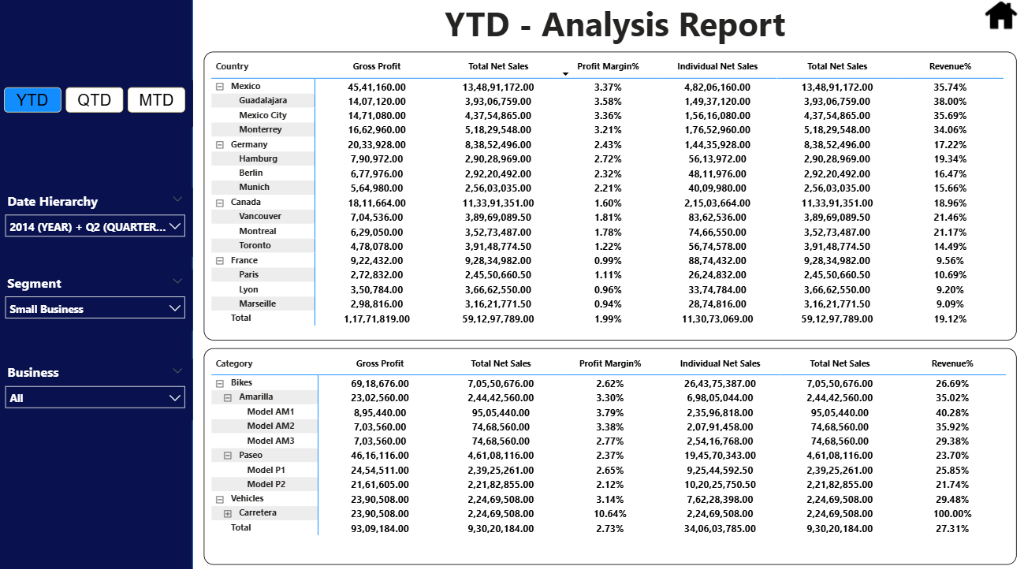

The dashboard page shown, as its layout file describes it:
{"tool":"powerbi","page":{"name":"Product/Location Analysis","canvas":[1280,720],"ordinal":2},"visuals":[{"type":"card","fields":{"Values":["DateTable.Report Heading"]},"box":[407.2,0,709.2,70.9],"z":0},{"type":"actionButton","box":[1211.5,0,68.5,51.4],"z":1000},{"type":"shape","box":[0,0,243.3,720.2],"z":2000},{"type":"ChicletSlicer1448559807354","fields":{"Category":["Period.Period Type"]},"box":[0,106.4,243.3,57.5],"z":3000},{"type":"slicer","fields":{"Values":["Fact-Finance.Segment"]},"box":[0,341.2,243.3,75.8],"z":4000},{"type":"slicer","fields":{"Values":["Dim_Date.YEAR","Dim_Date.QUARTER","Dim_Date.MONTH NAME"]},"box":[0,239.7,243.3,85.6],"z":5000},{"type":"slicer","fields":{"Values":["Fact-Finance.Business"]},"box":[0,452.4,243.3,75.8],"z":6000},{"type":"pivotTable","fields":{"Rows":["Dim-Location.Country","Dim-Location.City"],"Values":["_Measures.ind Gross Profit","_Measures.Net Sales","_Measures.Profit Margin%","_Measures.ind Net Sales","_Measures.Net Sales","_Measures.Rev%"]},"box":[256.8,70.9,1008.8,358.3],"z":7000},{"type":"pivotTable","fields":{"Rows":["Dim-Product.Category","Dim-Product.Product","Dim-Product.SubProduct"],"Values":["_Measures.ind Gross Profit","_Measures.ind Net Sales","_Measures.Profit Margin%","_Measures.Net Sales","_Measures.ind Net Sales","_Measures.Rev%"]},"box":[256.8,439,1008.8,269],"z":8000}]}

Visuals, with their boxes in screenshot pixels (x1, y1, x2, y2), scaled from the page's 1280x720 canvas onto the 1024x569 screenshot:
card - DateTable.Report Heading: [left=326, top=0, right=893, bottom=56]
actionButton: [left=969, top=0, right=1023, bottom=41]
shape: [left=0, top=0, right=195, bottom=568]
ChicletSlicer1448559807354 - Period.Period Type: [left=0, top=84, right=195, bottom=130]
slicer - Fact-Finance.Segment: [left=0, top=270, right=195, bottom=330]
slicer - Dim_Date.YEAR x Dim_Date.QUARTER: [left=0, top=189, right=195, bottom=257]
slicer - Fact-Finance.Business: [left=0, top=358, right=195, bottom=417]
pivotTable - Dim-Location.Country x Dim-Location.City: [left=205, top=56, right=1012, bottom=339]
pivotTable - Dim-Product.Category x Dim-Product.Product: [left=205, top=347, right=1012, bottom=560]
